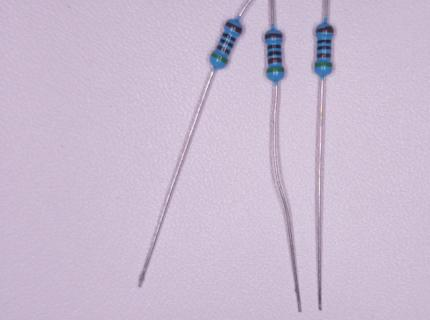Brown band: (216, 45, 231, 54), (268, 58, 282, 63), (317, 54, 331, 58)
Green band: (211, 53, 227, 64), (267, 68, 284, 73), (315, 62, 332, 67)
